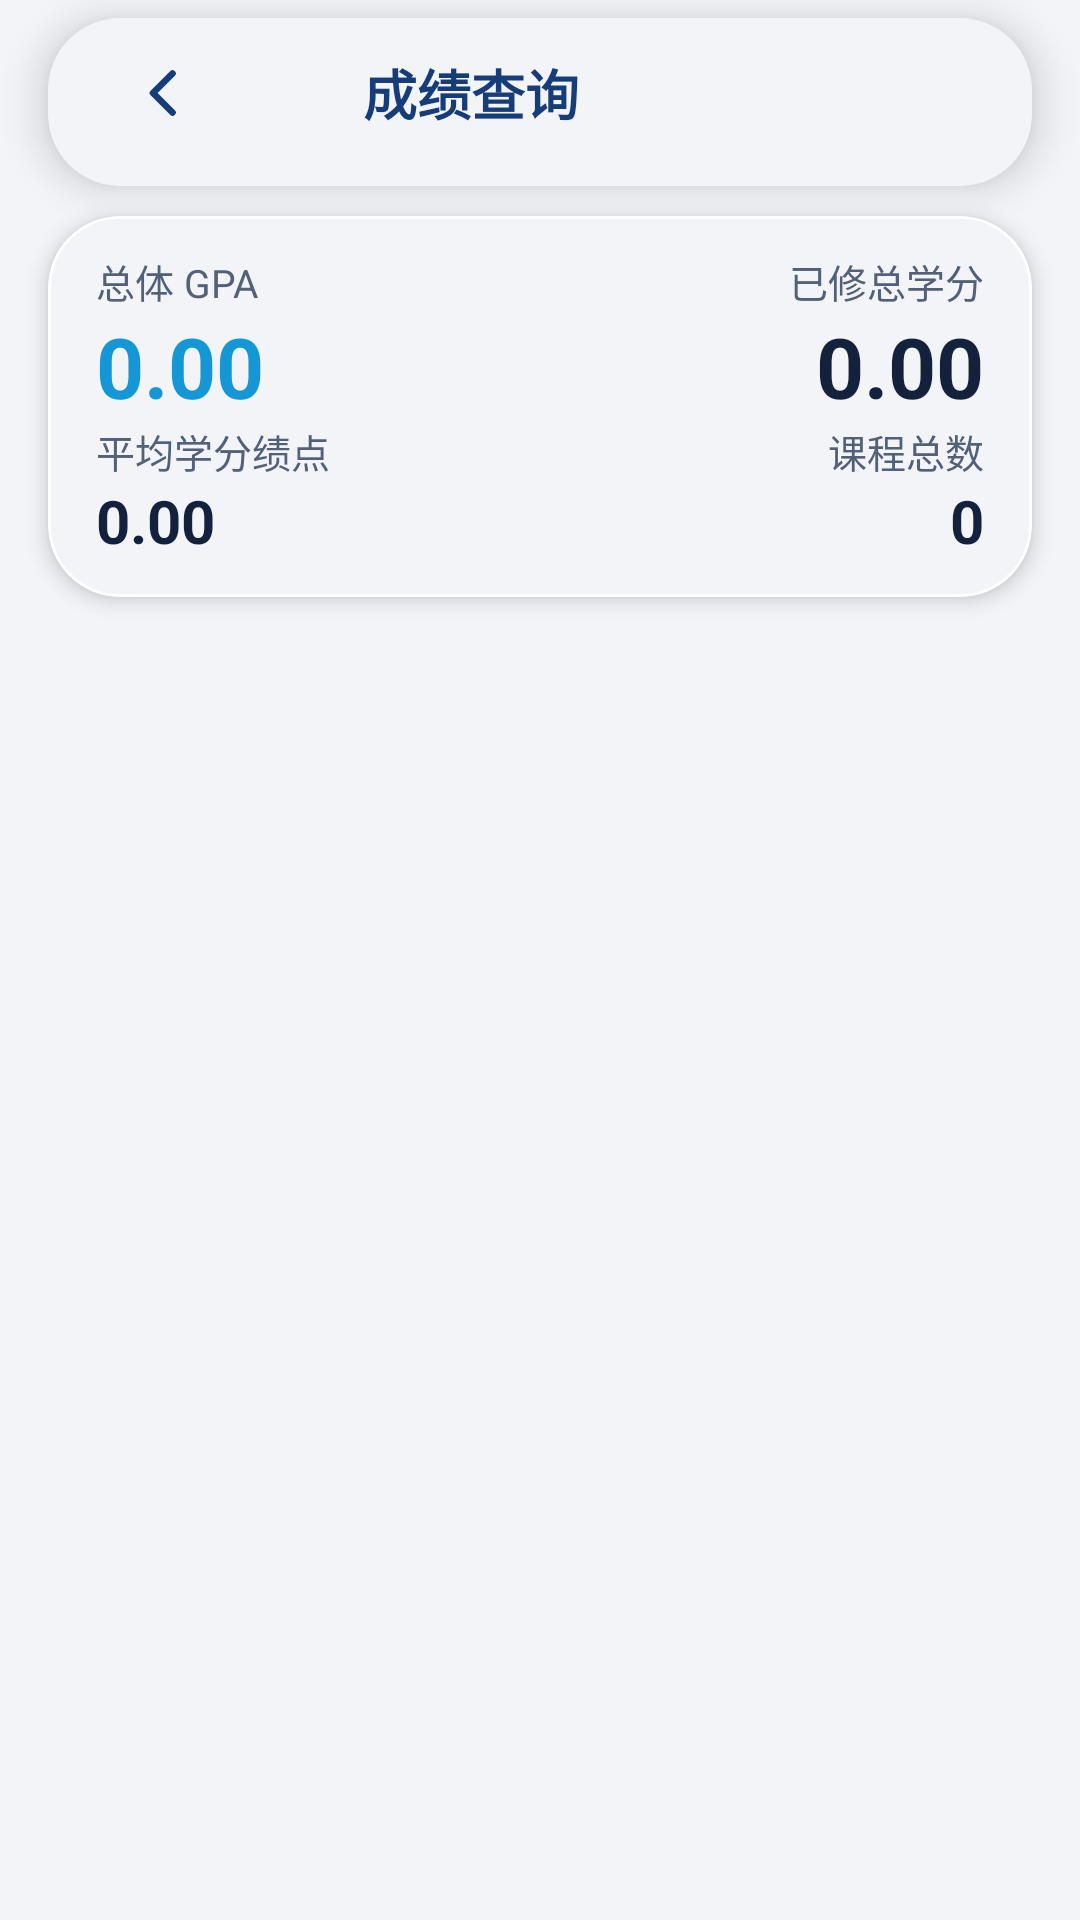

Point at icon controls on the screen. Image size 1080w x 1920h, points as point (x, y).
返回: point (162, 93)
